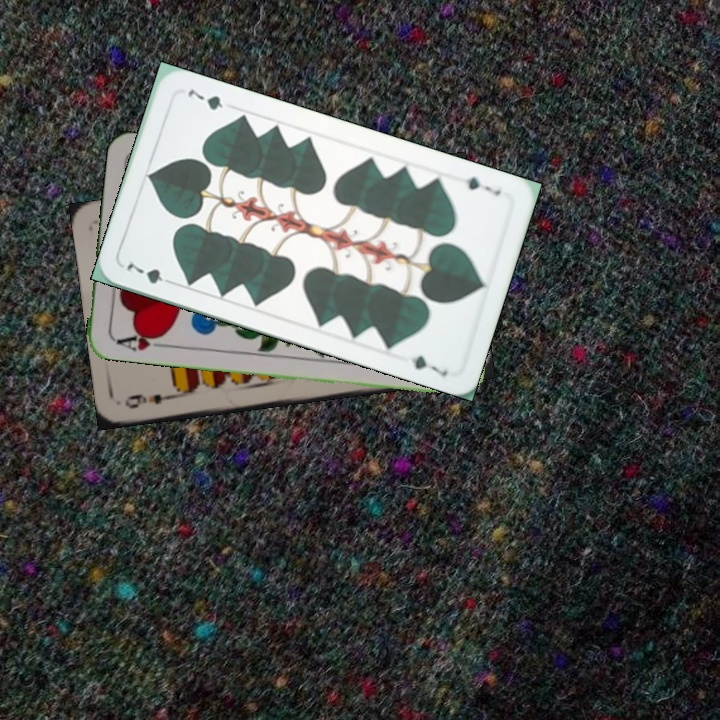E9: (121, 390, 179, 411)
G7: (121, 258, 178, 288), (462, 173, 503, 198)
HA: (110, 327, 170, 354)
